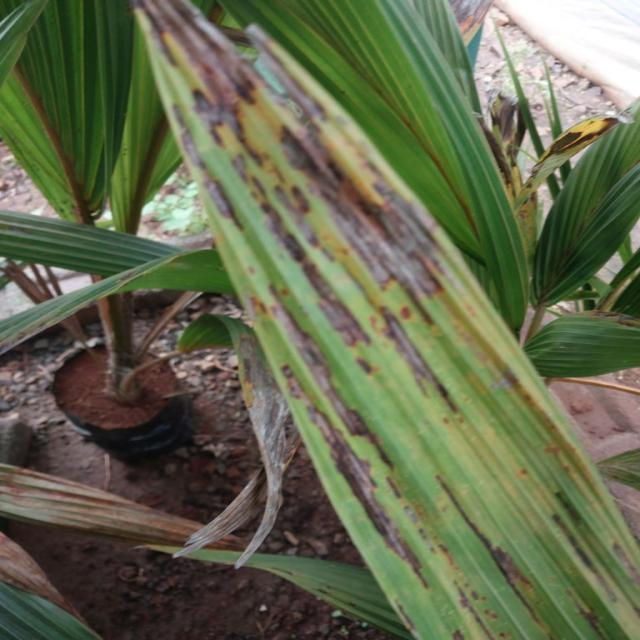gray leaf spot: (144, 6, 640, 639)
